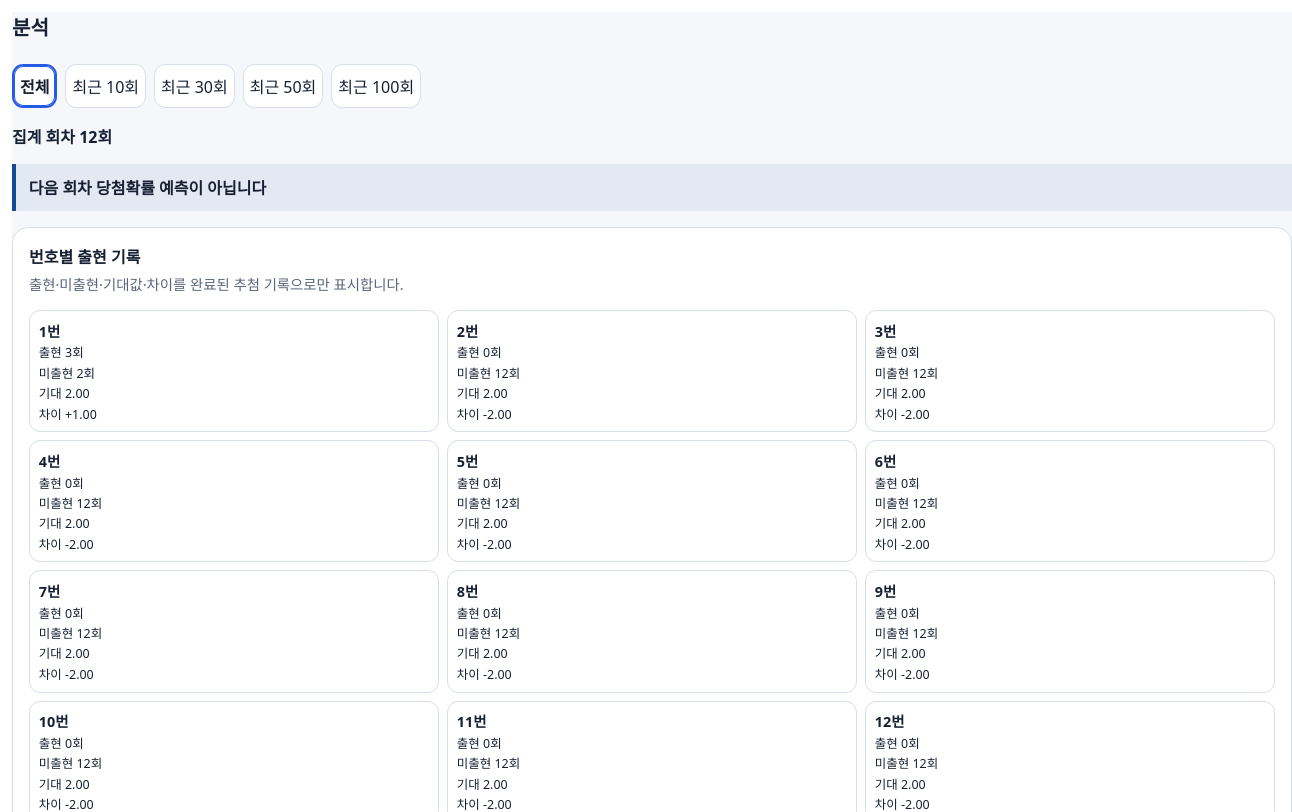
Test: changes the displayed available draw count for every analysis window
The width and height of the screenshot is (1292, 812).
Expected: the text "집계 회차 12회" is shown, [12,126,112,148]
Click the button "최근 10회": (106, 86) [66,64,146,108]
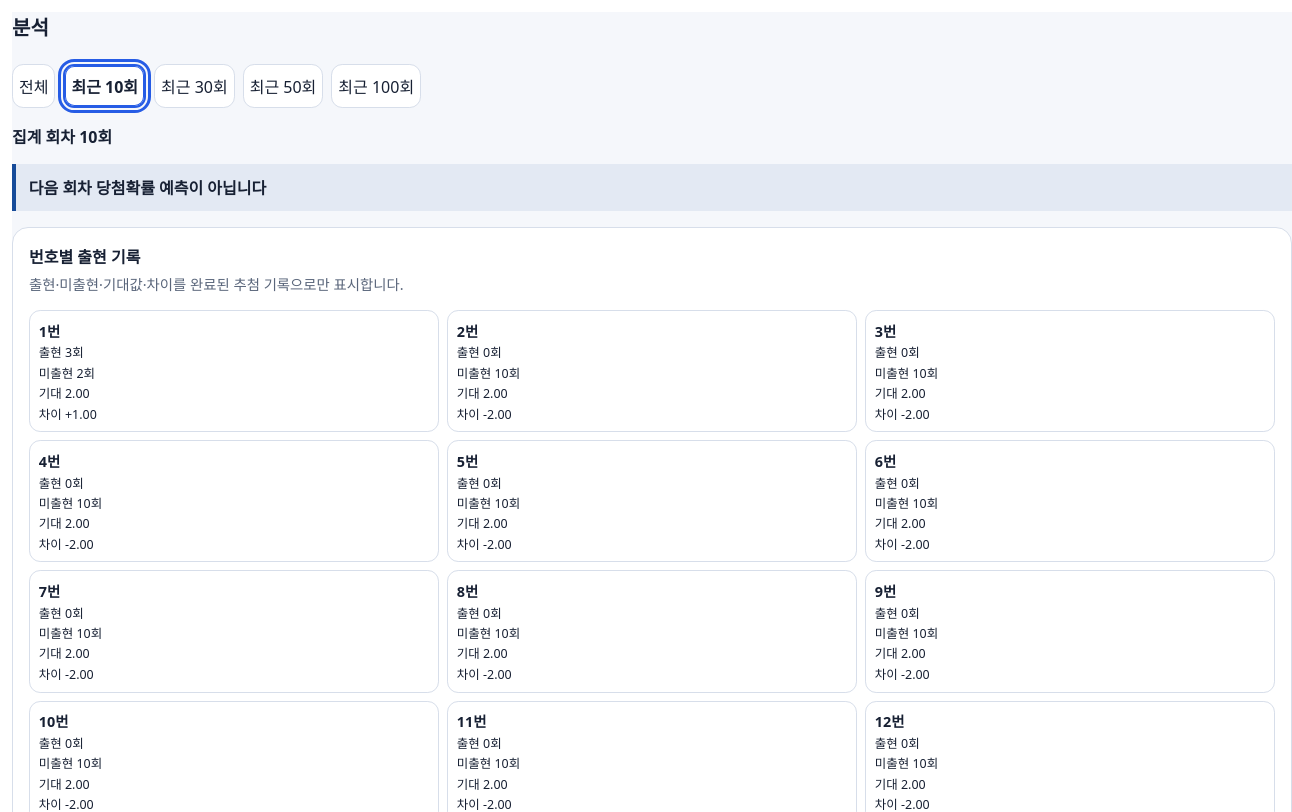
Result: the button "최근 10회" is pressed at [64,64,146,108]
Click the button "최근 30회": (194, 86) [154,64,235,108]
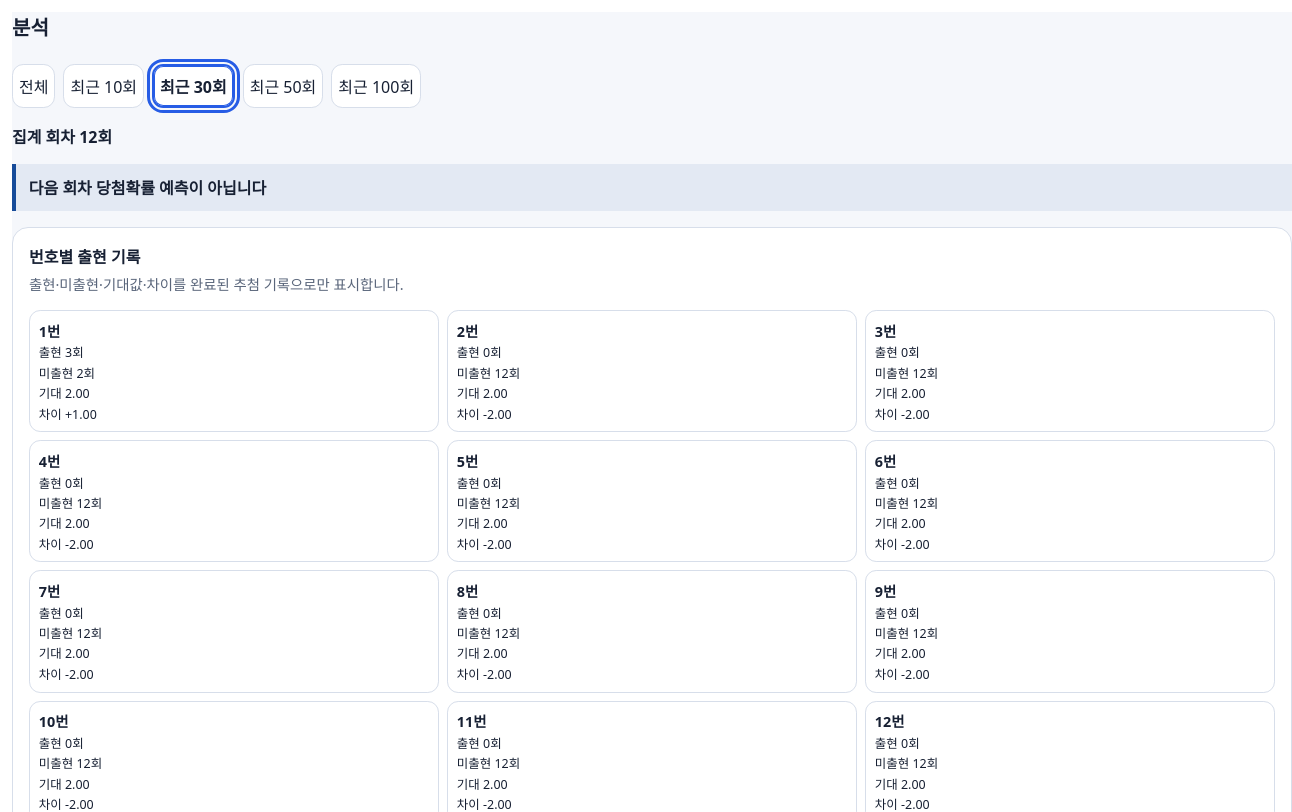
Result: the button "최근 30회" is pressed at [152,64,235,108]
Click the button "최근 50회": (283, 86) [243,64,323,108]
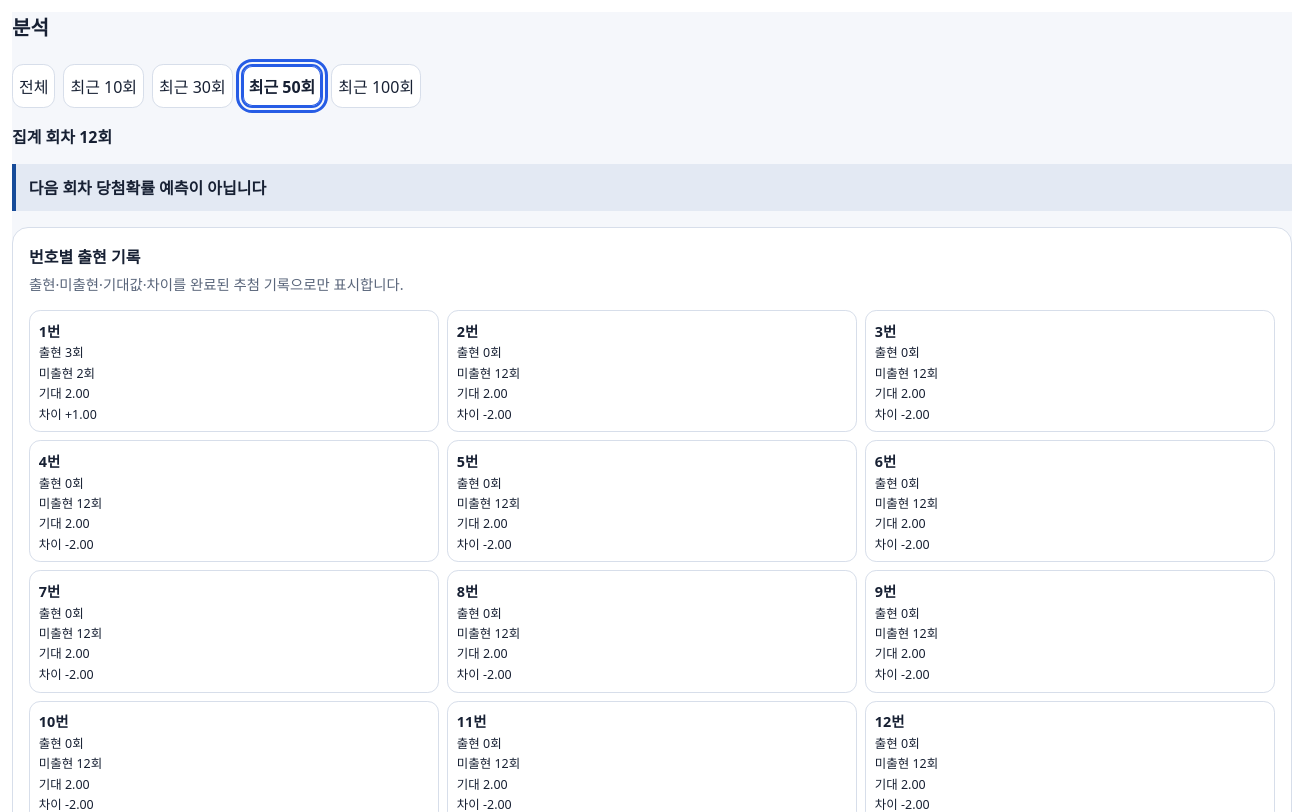
Result: the button "최근 50회" is pressed at [241,64,323,108]
Click the button "최근 100회": (376, 86) [331,64,421,108]
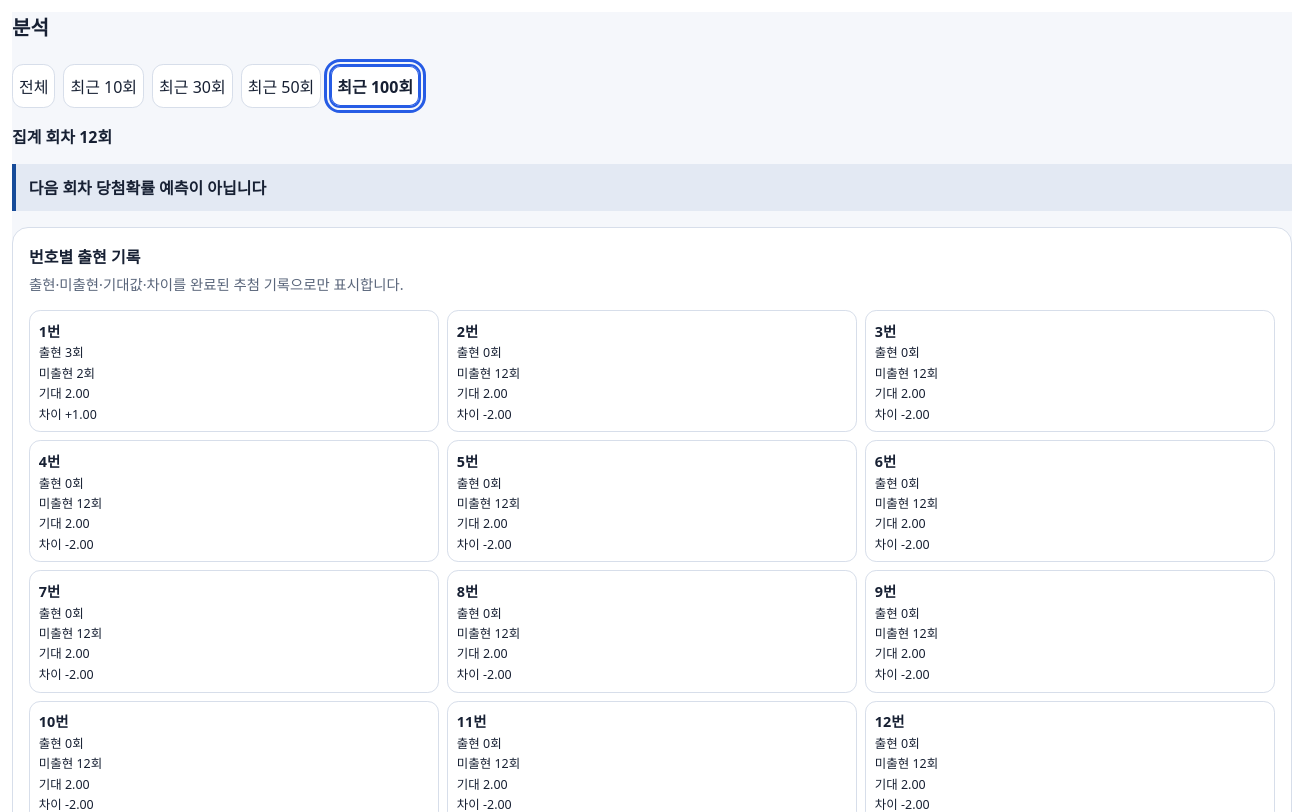
Result: the text "집계 회차 12회" is shown at [12,126,112,148]
Click the button "최근 10회": (104, 86) [64,64,144,108]
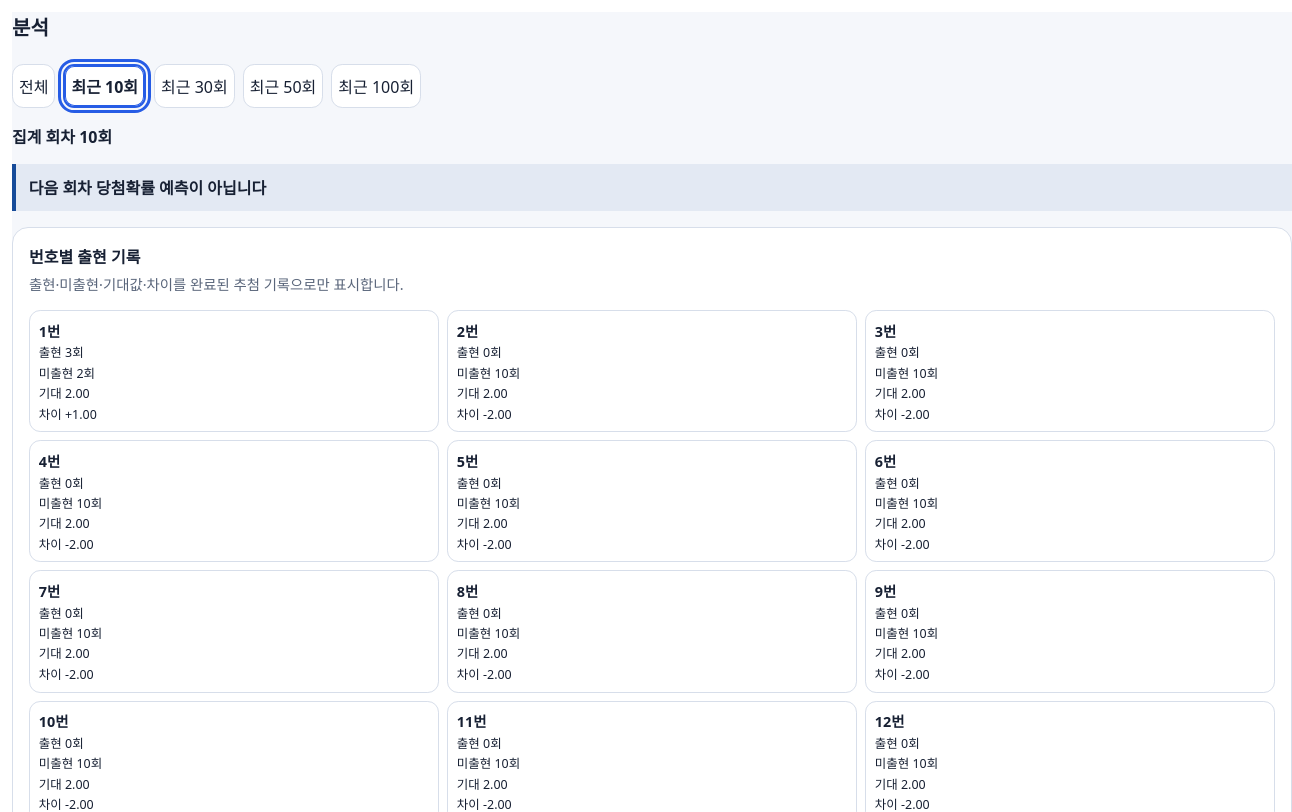
Result: the text "집계 회차 10회" is shown at [12,126,112,148]
